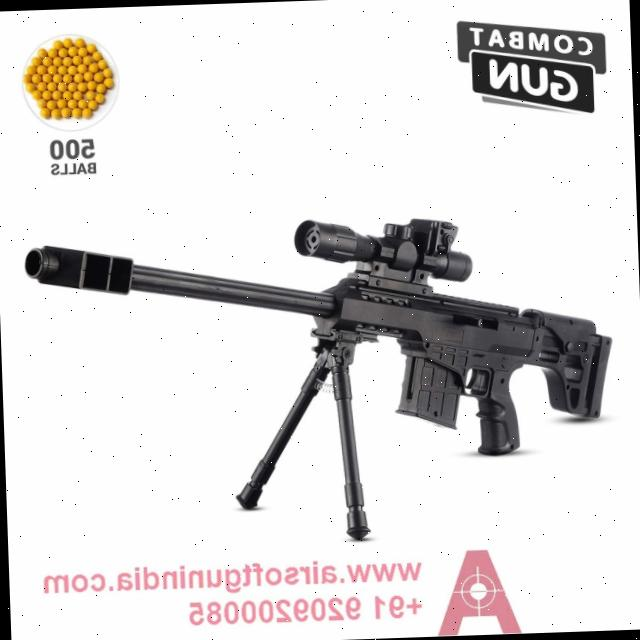Sniper: (26, 210, 618, 538)
